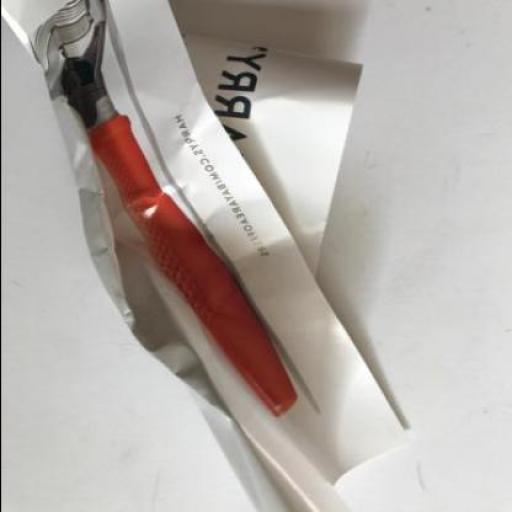paper: (0, 1, 416, 511)
